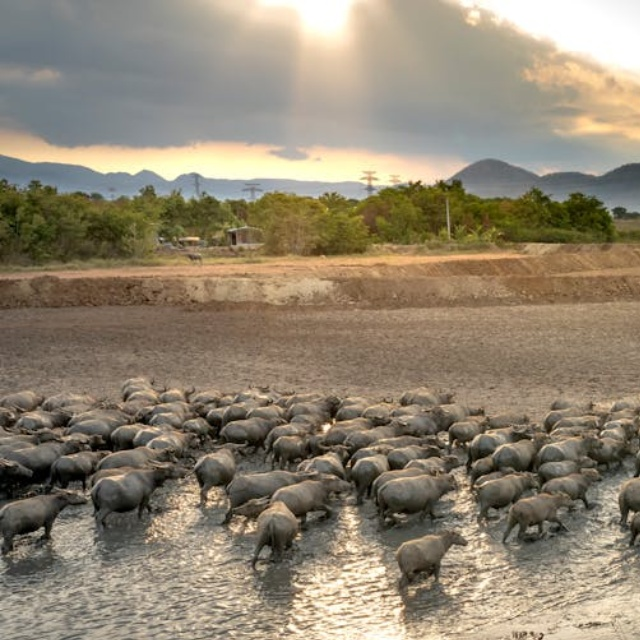网状裂隙: (0, 0, 640, 640), (332, 0, 640, 547), (55, 59, 379, 557), (57, 101, 271, 515), (41, 93, 171, 525), (6, 86, 134, 523)
